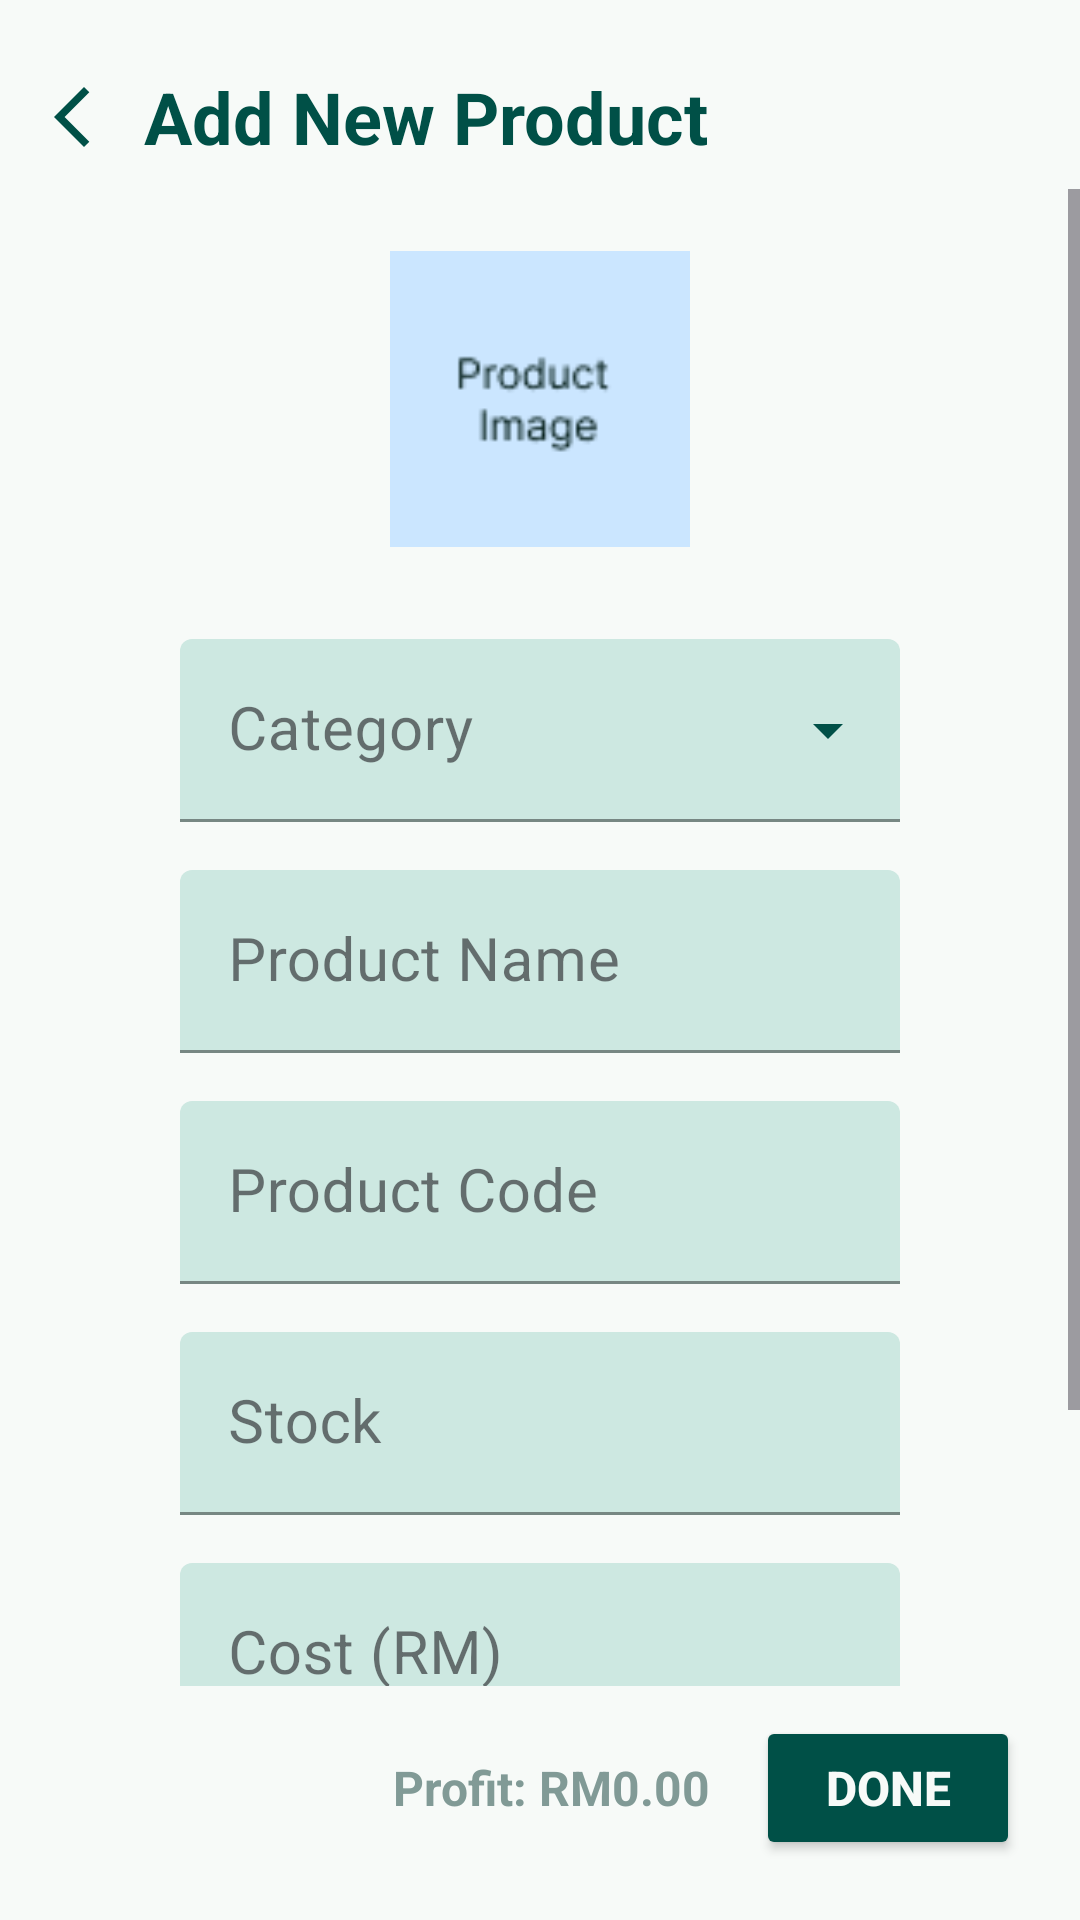

Icons on this 1080px×1920px Android screen, each with its box as (x1, y1, x2, y2):
back: (54, 87, 89, 147)
